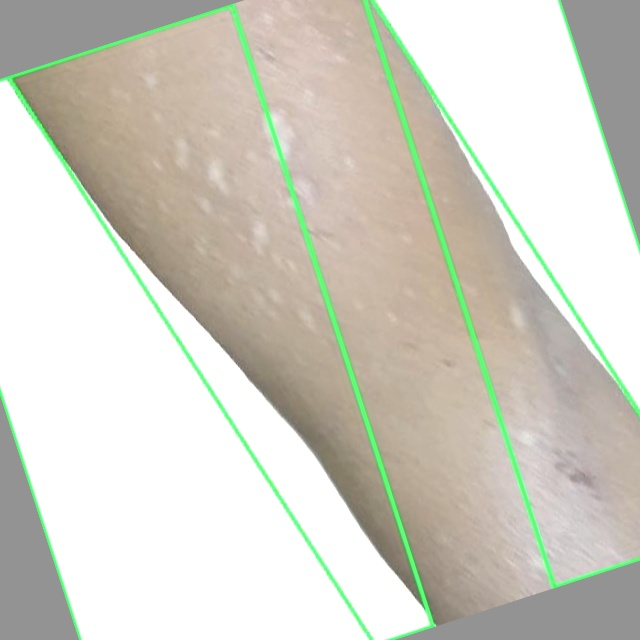Scabies: (6, 0, 639, 639), (0, 4, 433, 639), (365, 0, 639, 587)
